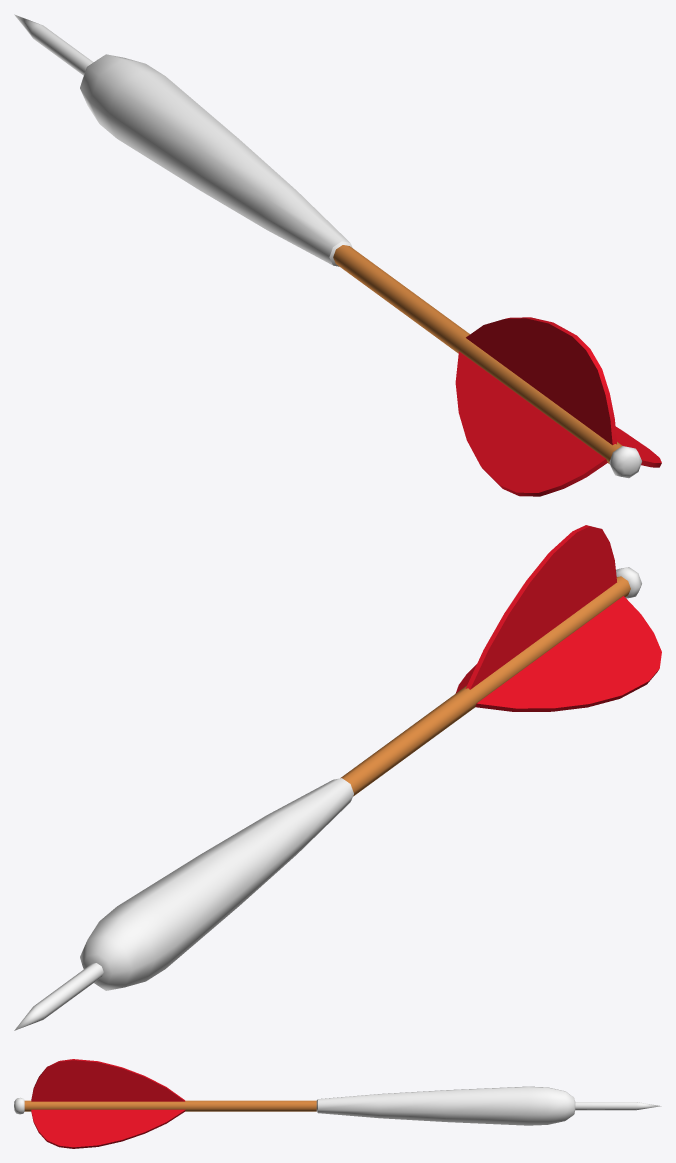
File: Dart.fbx
3 renders of one model, top to bottom at view 1: azimuth 30°, elevation 25°; view 2: azimuth 150°, elevation 25°; view 3: azimuth 270°, elevation 25°, orthographic. The views are drawn at different scales.
Visible parts, largest first — view 1: Cylinder; view 2: Cylinder; view 3: Cylinder.
Boxes of the visible parts, left/top/right/bottom form: Cylinder: left=14, top=14, right=661, bottom=496; Cylinder: left=14, top=525, right=661, bottom=1030; Cylinder: left=14, top=1059, right=661, bottom=1148.
Size of the model in its own units: 5.66 by 40.65 by 4.91.
